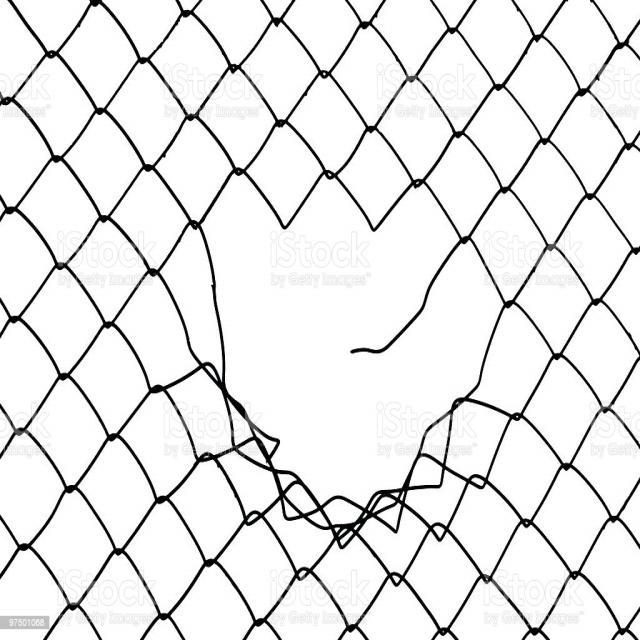fence line: (223, 175, 500, 515)
